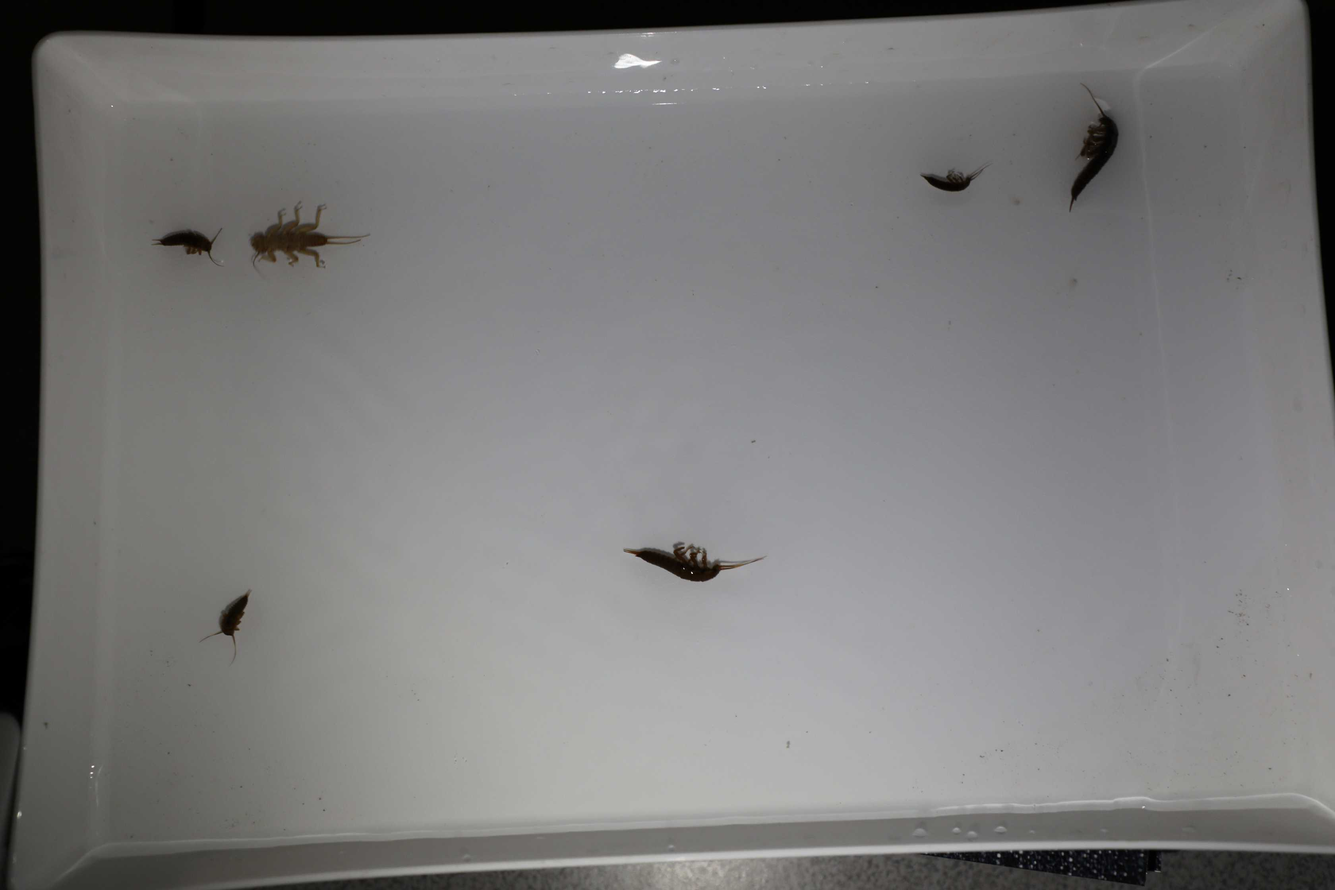Stonefly: (241, 208, 367, 272), (1068, 81, 1121, 220), (624, 538, 766, 583), (149, 221, 221, 276), (200, 586, 249, 664), (916, 154, 989, 198)
